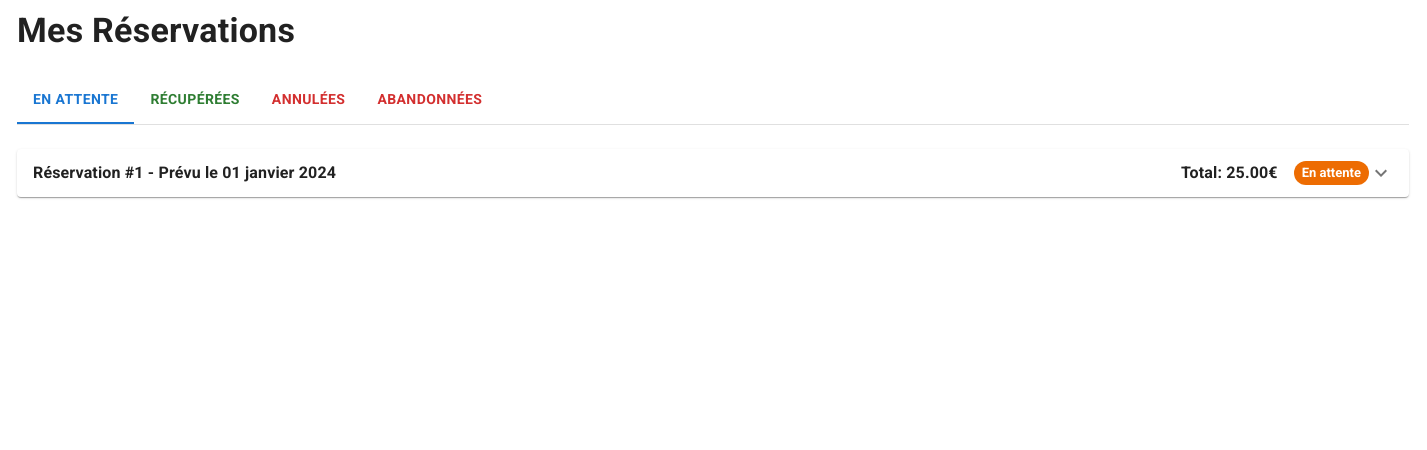
Test: ReservationsPage › displays reservation line items when expanded
Click the button "Réservation #1". click: (84, 172)
box: [17,149,1409,197]
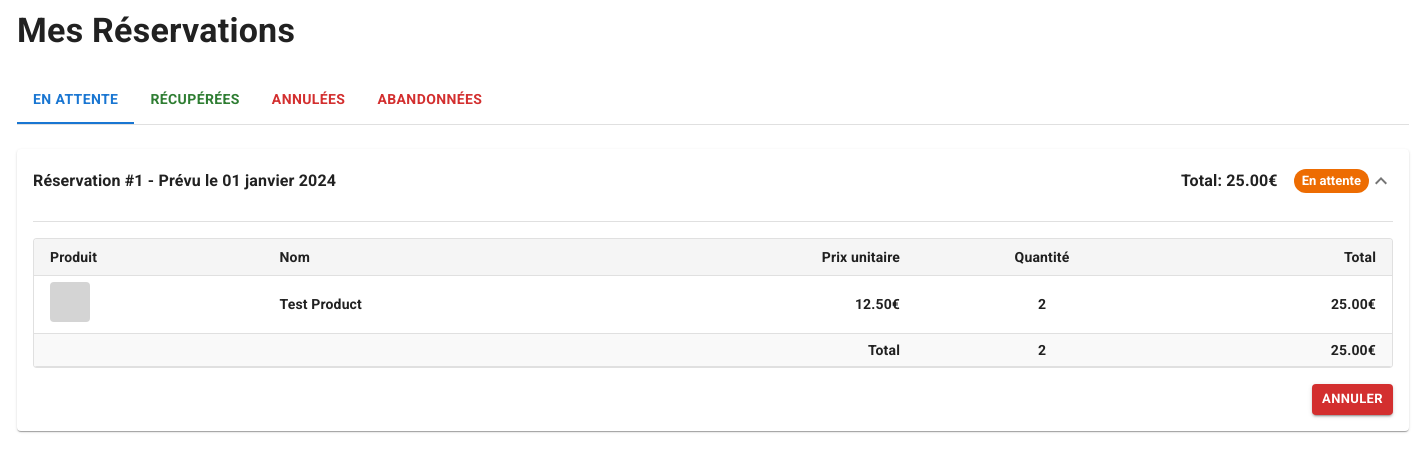
Check: the column heading "Prix unitaire" is shown, box [596,239,916,276]
Check: the column heading "Quantité" is shown, box [916,239,1168,276]
Check: the column heading "Total" is shown, box [1168,239,1392,276]
